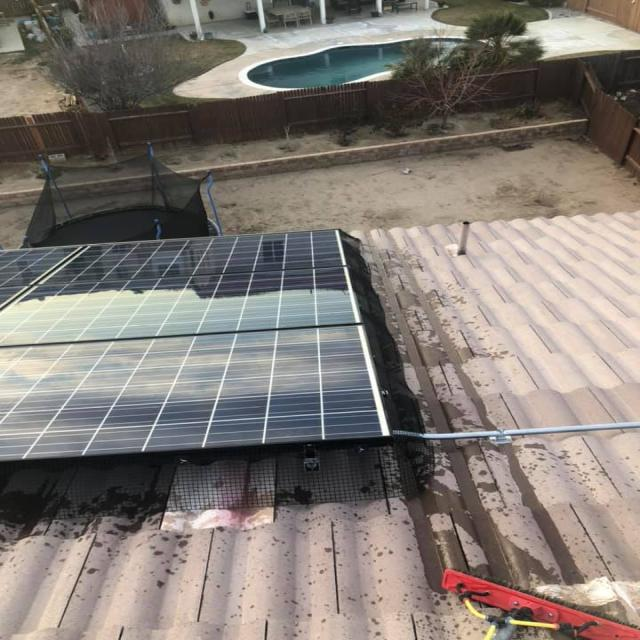clean-solar-panel: (2, 231, 390, 461)
